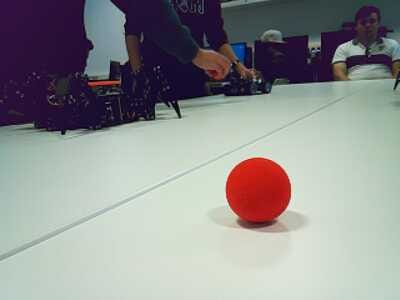bola_cerca: (225, 156, 288, 226)
hexapodo_ajeno: (13, 70, 185, 137)
